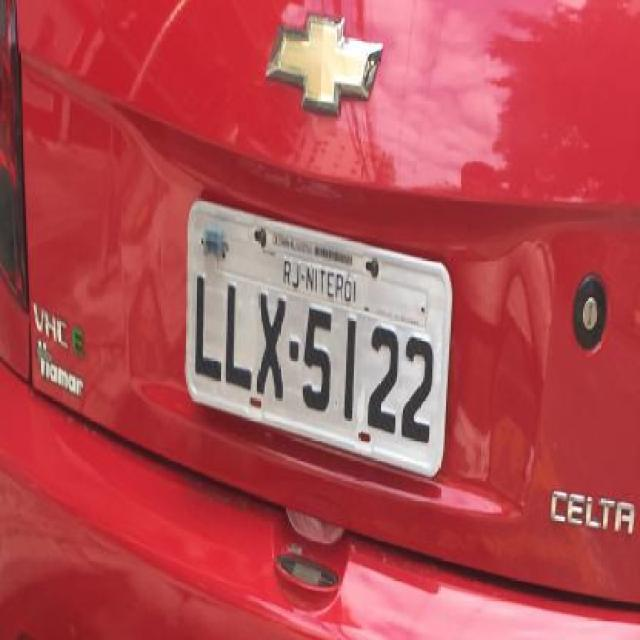old_plate: (177, 192, 461, 484)
